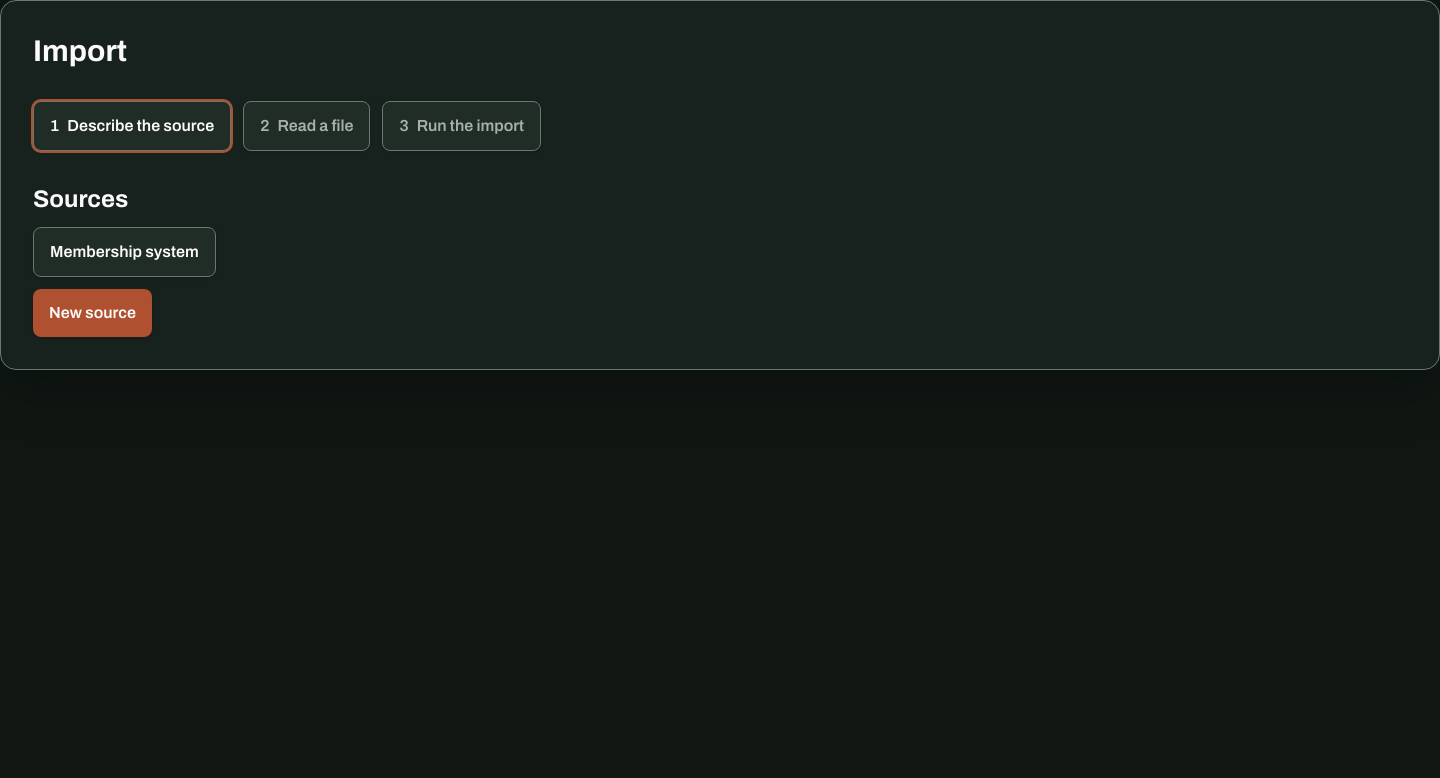
AdminImportView › given a chosen source, when it is opened, then its linked member numbers are shown with it
Click the button with test id "source-choice-source-1" at (124, 252), box [33,227,216,277]
(page scrolled)
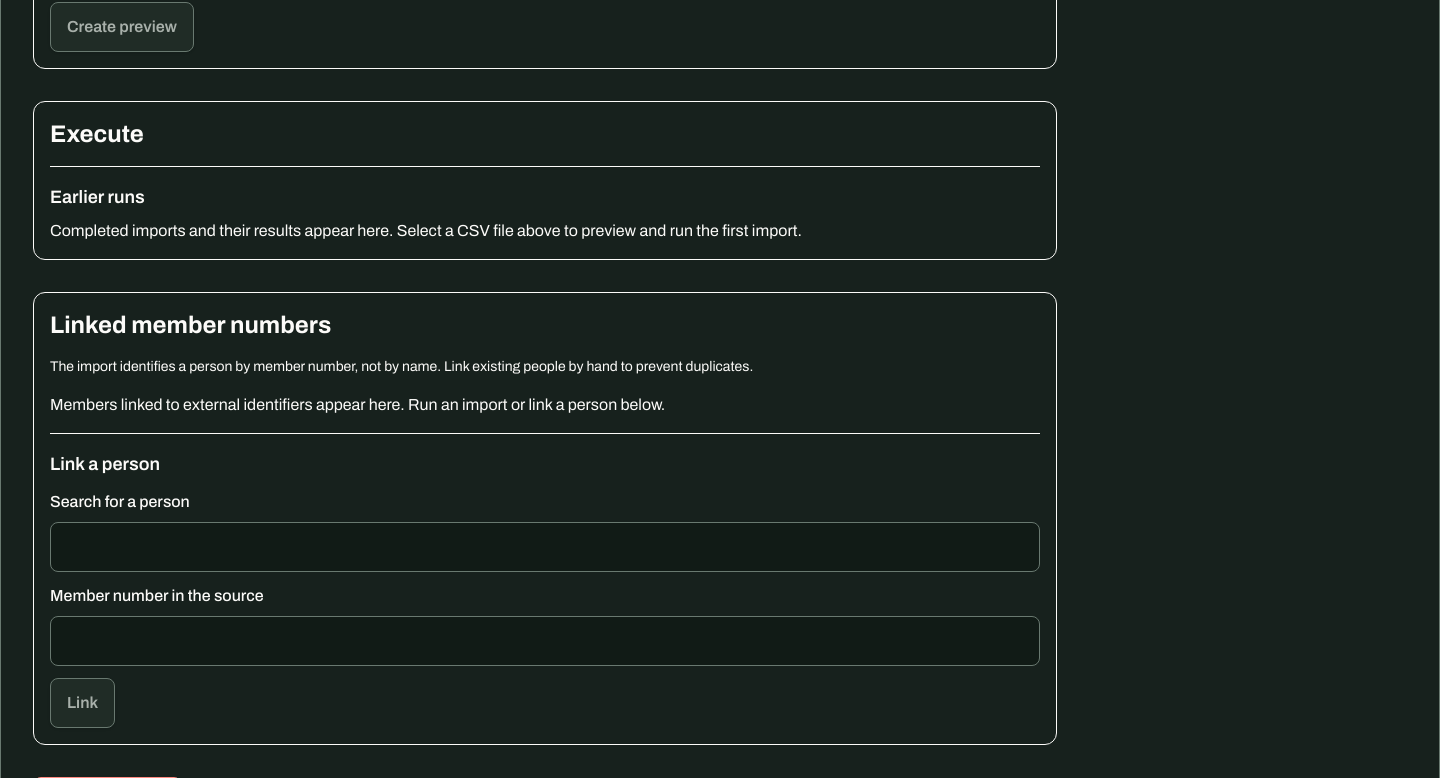
Now the text with test id "no-references" is shown, box [50,396,665,413]
